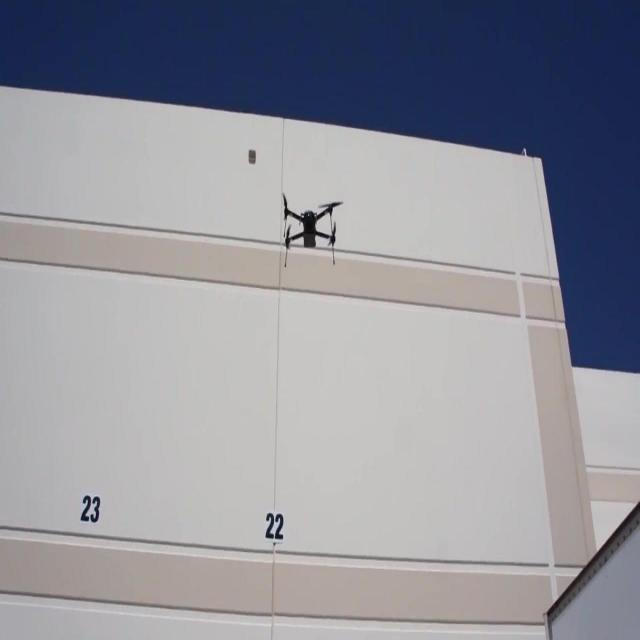UAV: (282, 192, 344, 268)
